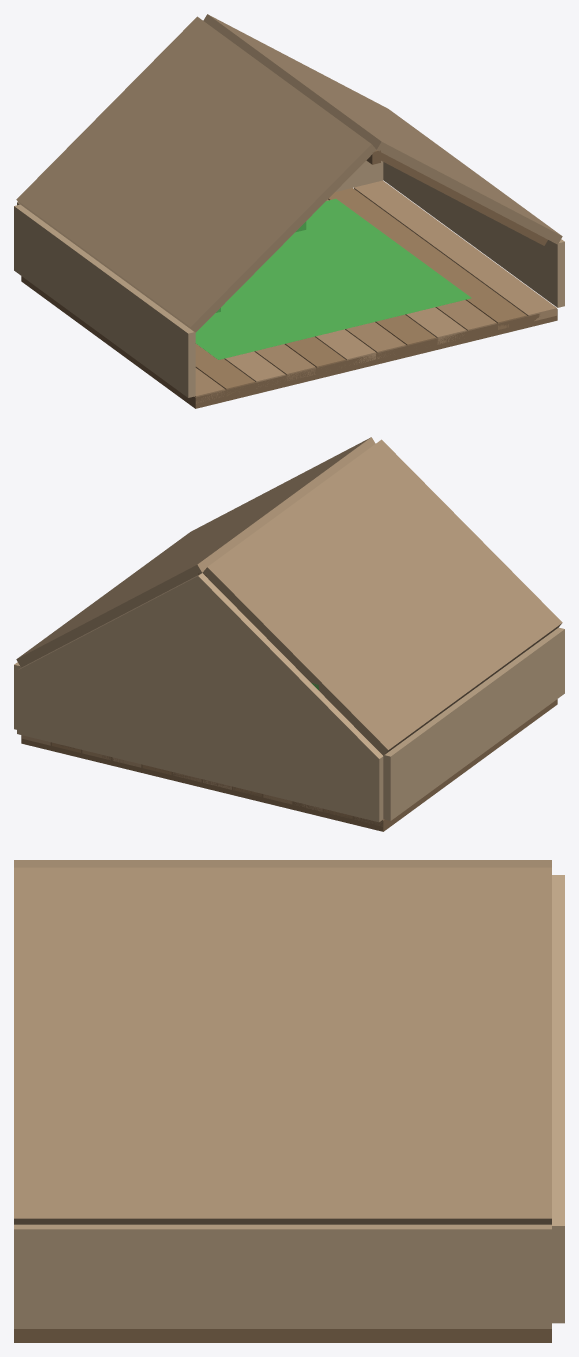
Rendered from attic.glb.
3 views of the same model, one above another, from view 1: azimuth 30°, elevation 25°; view 2: azimuth 150°, elevation 25°; view 3: azimuth 270°, elevation 25° (orthographic). The views are drawn at different scales.
Parts seen in each view (by area): view 1: RoofLeft, nav_floor, KneeWallLeft, RoofRight, KneeWallRight, plank_11, floor_base, plank_10, rafter_0_R, plank_1, plank_3, plank_5 (+8 smaller); view 2: RoofLeft, BackWall, KneeWallLeft, RoofRight, floor_base; view 3: RoofRight, KneeWallRight, floor_base, BackWall, RoofLeft.
Boxes of the visible parts, x1,y1,x2,y2 form: RoofLeft: (16,16,376,332); nav_floor: (195,198,471,359); KneeWallLeft: (14,204,195,397); RoofRight: (203,14,562,244); KneeWallRight: (383,162,564,307); plank_11: (354,180,556,321); floor_base: (21,276,557,408); plank_10: (328,188,526,329); rafter_0_R: (381,152,547,245); plank_1: (195,344,255,395); plank_3: (254,344,315,380); plank_5: (315,329,375,364); RoofLeft: (202,439,562,755); BackWall: (17,573,383,822); KneeWallLeft: (383,627,564,820); RoofRight: (16,437,375,667); floor_base: (21,699,557,831); RoofRight: (14,867,551,1224); KneeWallRight: (14,1224,551,1328); floor_base: (14,1329,551,1342); BackWall: (552,875,564,1323); RoofLeft: (14,860,551,867).
Size of the model in its own units: 6.24 by 3.51 by 5.12.
